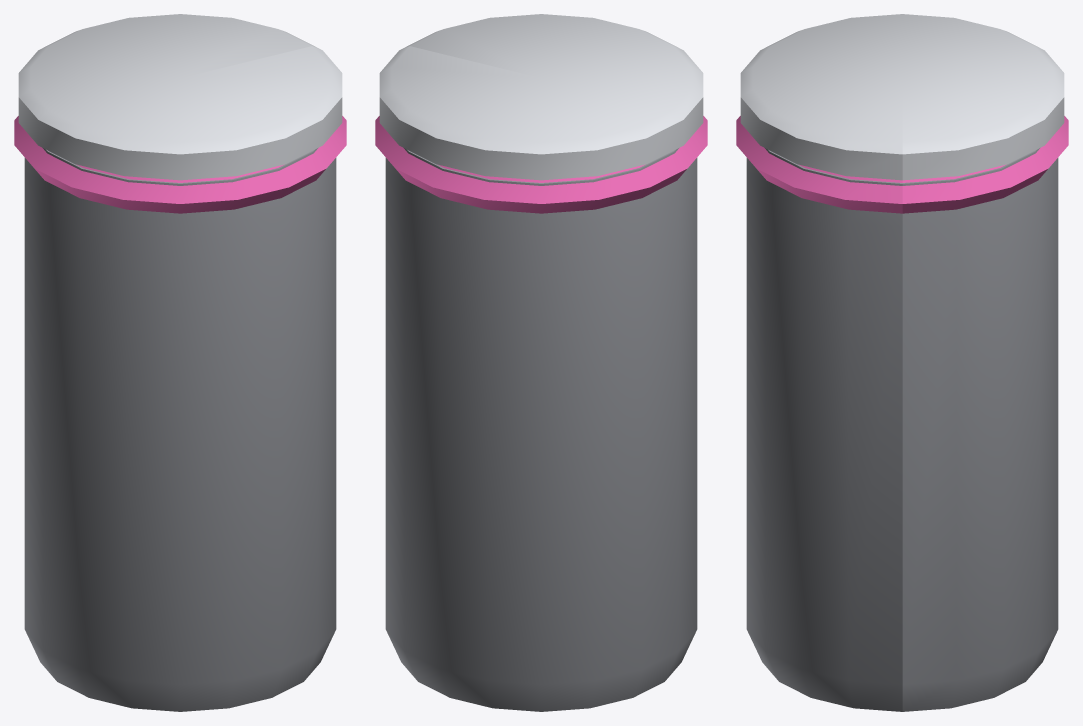
File: nightclub-and-dj-booth-bin-5a0cbd07__34140.glb
3 renders of one model, left to right at view 1: azimuth 30°, elevation 25°; view 2: azimuth 150°, elevation 25°; view 3: azimuth 270°, elevation 25°, orthographic.
Visible parts, largest first — view 1: bin; view 2: bin; view 3: bin.
Part boxes in pixels (left/top/right/bottom): bin: left=14, top=14, right=346, bottom=711; bin: left=375, top=14, right=707, bottom=711; bin: left=736, top=14, right=1068, bottom=711.
Bounding box in the file's own units: 0.448 × 0.84 × 0.4412.
